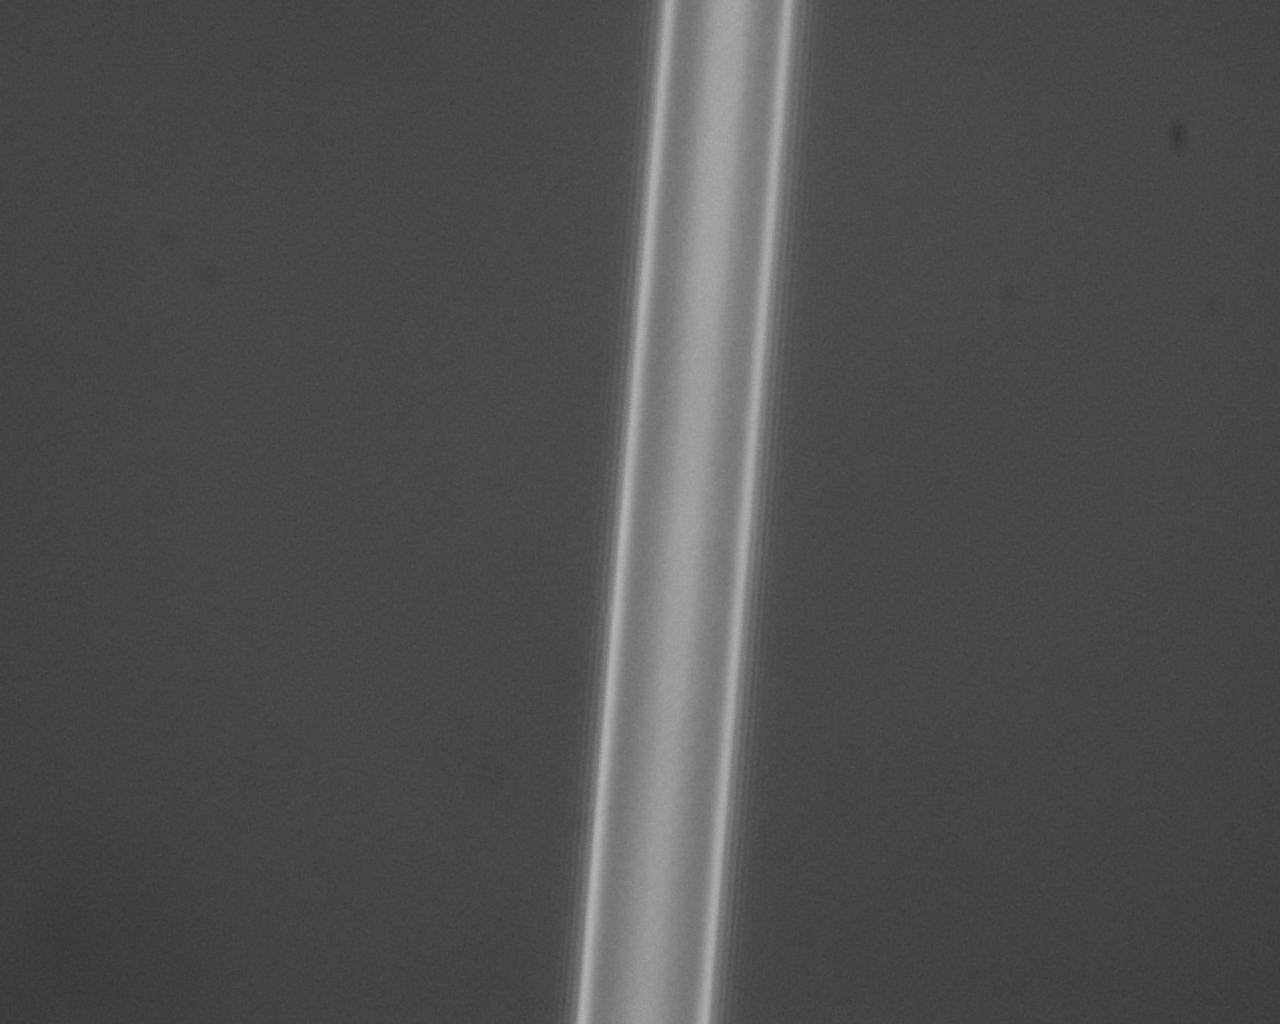fiber: (0, 573, 536, 969), (0, 60, 614, 215)
